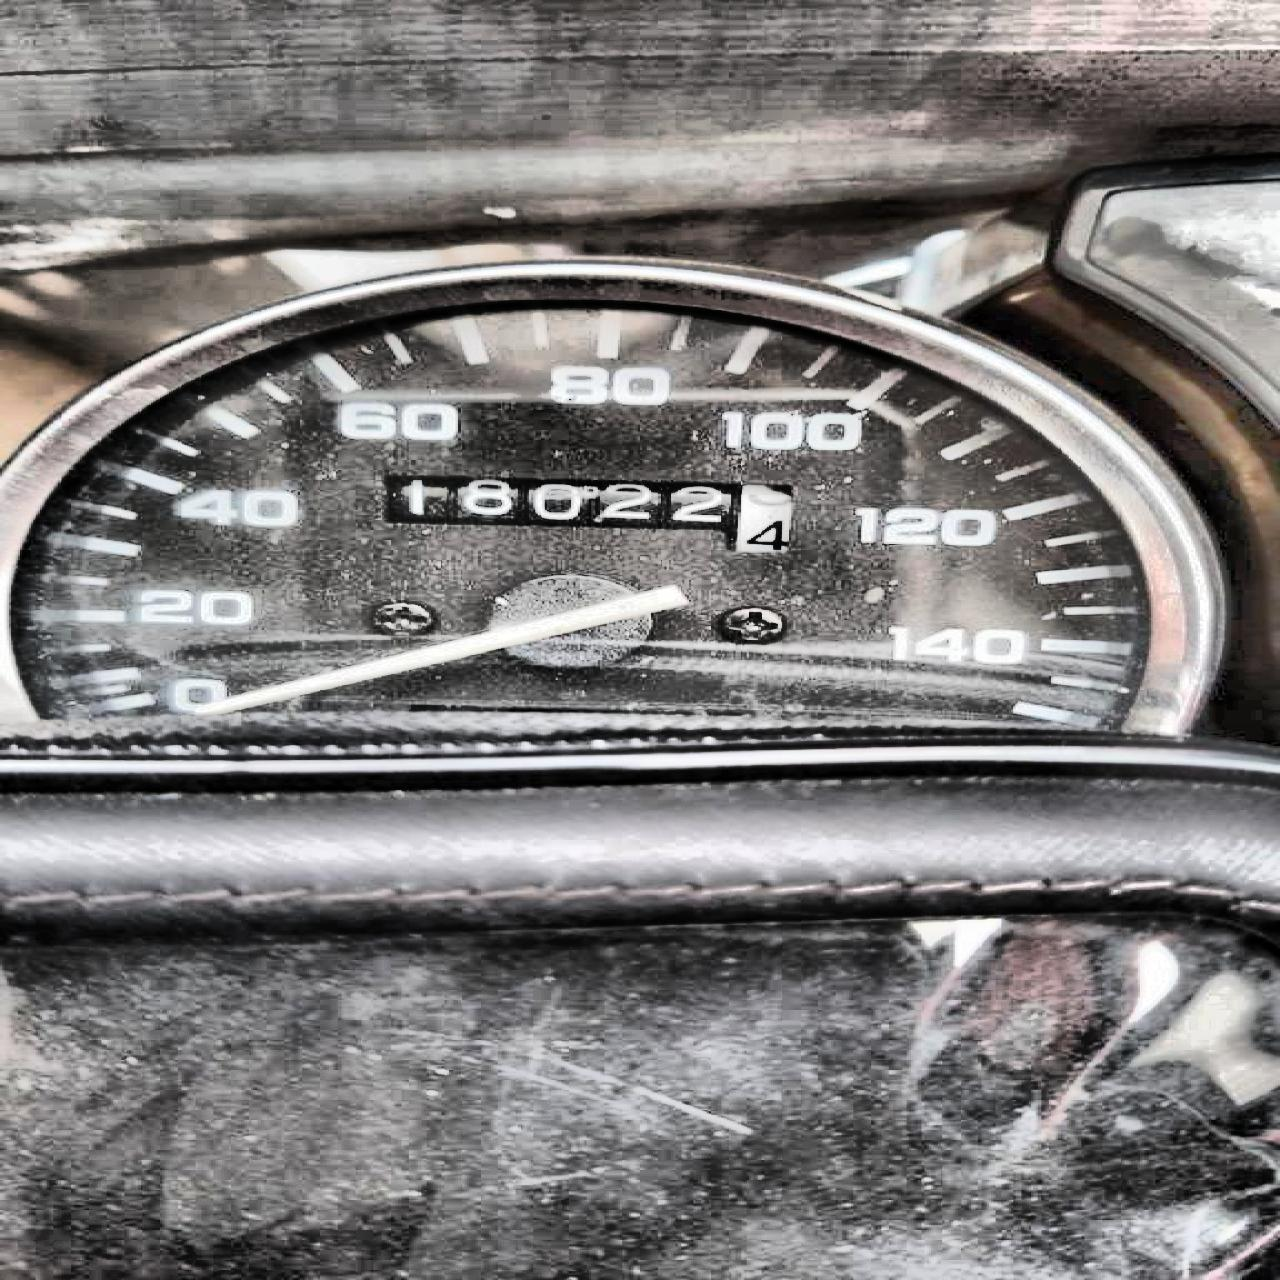0: (529, 482, 583, 519)
1: (400, 477, 436, 523)
2: (593, 481, 654, 520), (669, 484, 727, 524)
3: (747, 477, 796, 509)
4: (742, 517, 787, 551)
8: (461, 477, 516, 518)
odometer: (377, 472, 796, 553)
